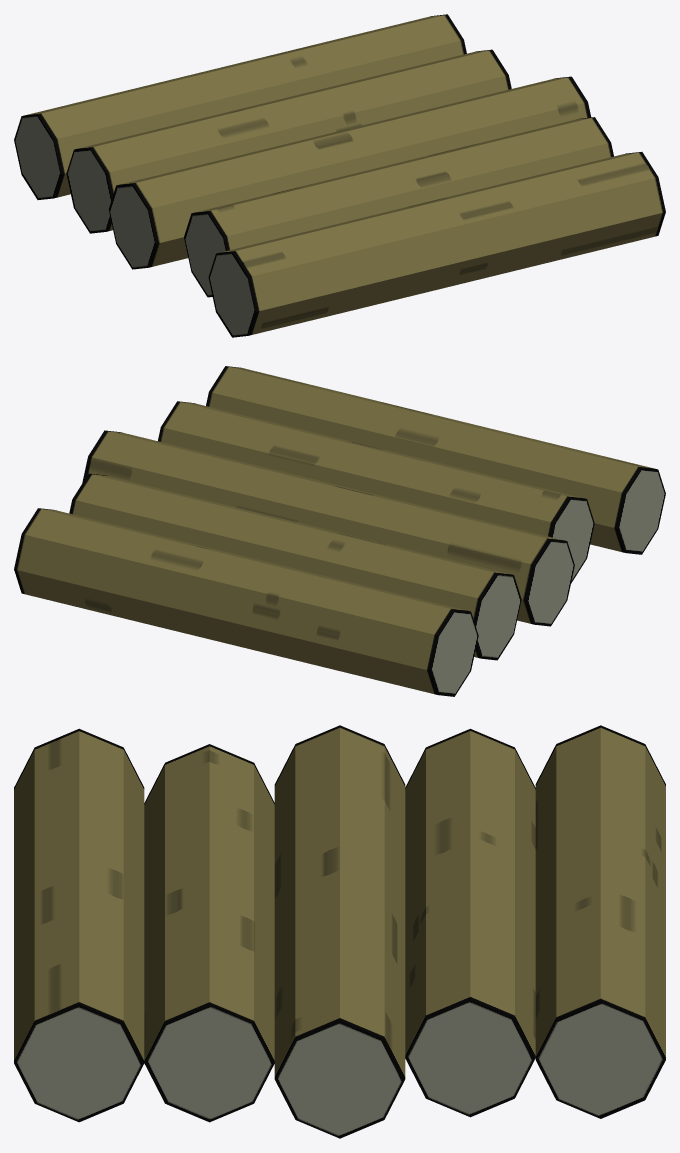
Rendered from logs_only.glb.
The picture shows the model from 3 angles, top to bottom: view 1: azimuth 30°, elevation 25°; view 2: azimuth 150°, elevation 25°; view 3: azimuth 270°, elevation 25°; orthographic projection. The views are drawn at different scales.
Visible parts, largest first — view 1: Bridge_Mid1; view 2: Bridge_Mid1; view 3: Bridge_Mid1.
Boxes of the visible parts, <box> form: Bridge_Mid1: <box>14,14,665,337</box>; Bridge_Mid1: <box>14,366,665,696</box>; Bridge_Mid1: <box>14,725,665,1138</box>.
Bounding box in the file's own units: 2.14 × 0.4 × 2.
1 material, 1 textured.
